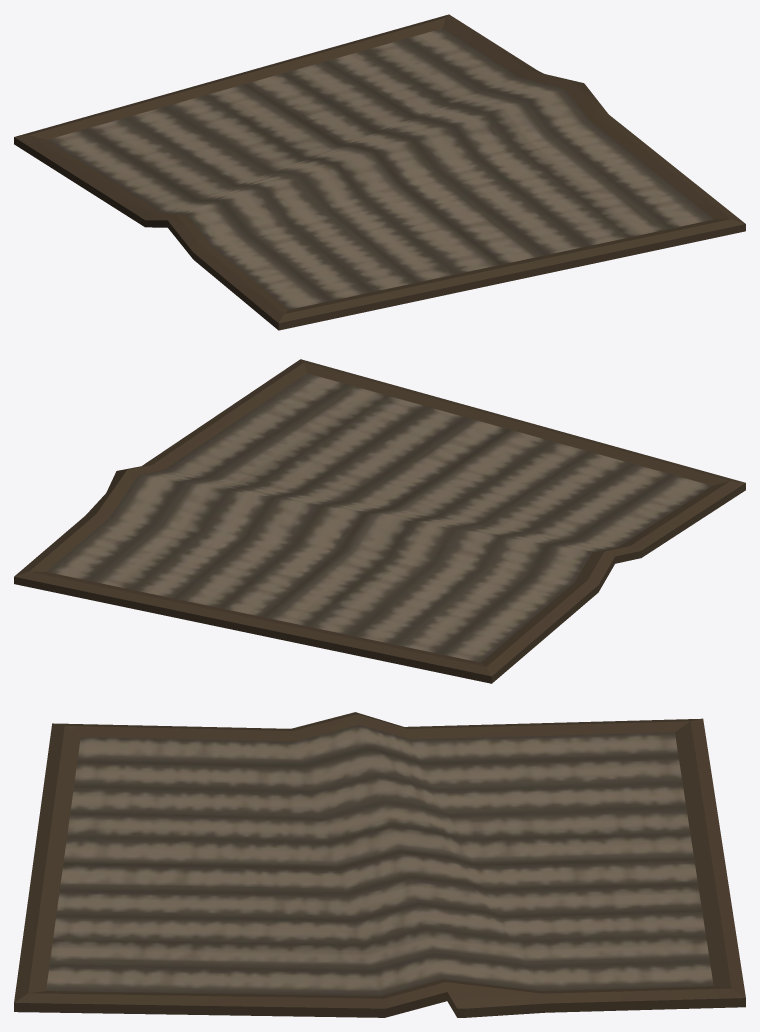
The model's file is samurai_SM_Prop_Rug_04.gltf.
3 views of the same model, one above another, from view 1: azimuth 30°, elevation 25°; view 2: azimuth 150°, elevation 25°; view 3: azimuth 270°, elevation 25° (orthographic). The views are drawn at different scales.
Parts seen in each view (by area): view 1: SM_Prop_Rug_04; view 2: SM_Prop_Rug_04; view 3: SM_Prop_Rug_04.
Part boxes in pixels (<box>): SM_Prop_Rug_04: <box>14,14,745,330</box>; SM_Prop_Rug_04: <box>14,359,745,683</box>; SM_Prop_Rug_04: <box>14,712,745,1017</box>.
Size of the model in its own units: 1.24 by 0.0596 by 1.33.
Materials: 1 (1 with a texture image).
